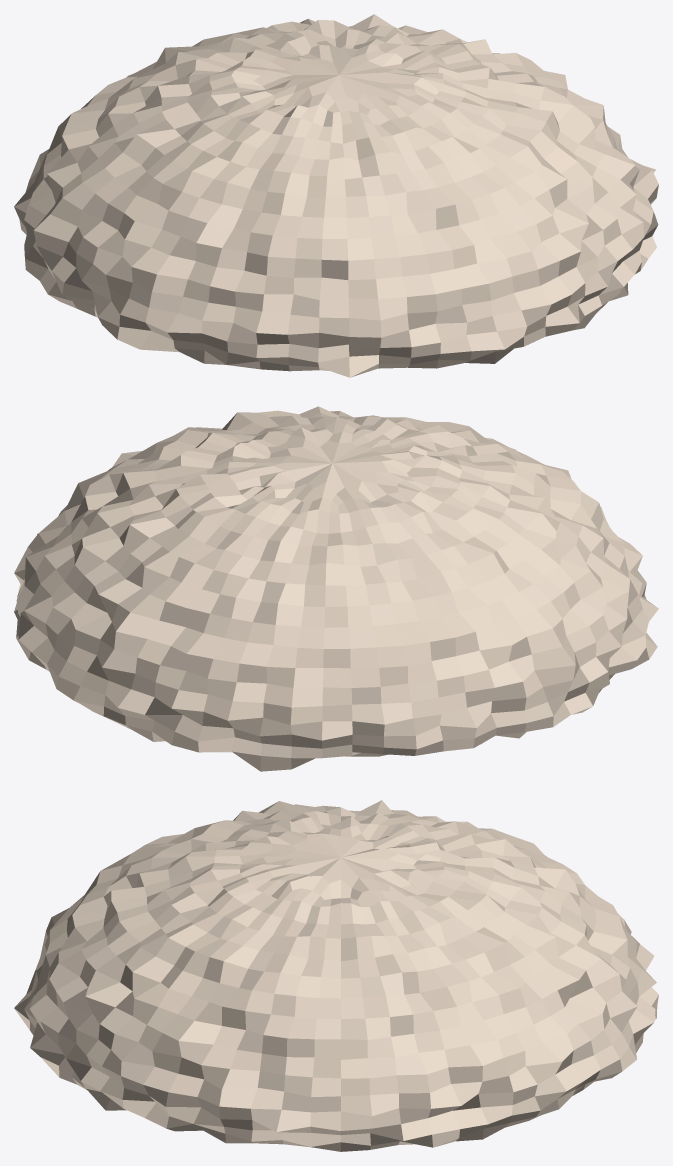
Rendered from cookedrice.glb.
3 renders of one model, top to bottom at view 1: azimuth 30°, elevation 25°; view 2: azimuth 150°, elevation 25°; view 3: azimuth 270°, elevation 25°, orthographic.
Parts seen in each view (by area): view 1: cookedrice; view 2: cookedrice; view 3: cookedrice.
Boxes of the visible parts, x1=… form: cookedrice: x1=14, y1=14, x2=658, y2=377; cookedrice: x1=14, y1=406, x2=658, y2=771; cookedrice: x1=14, y1=800, x2=658, y2=1151.
Size of the model in its own units: 1.93 by 0.6429 by 1.95.
